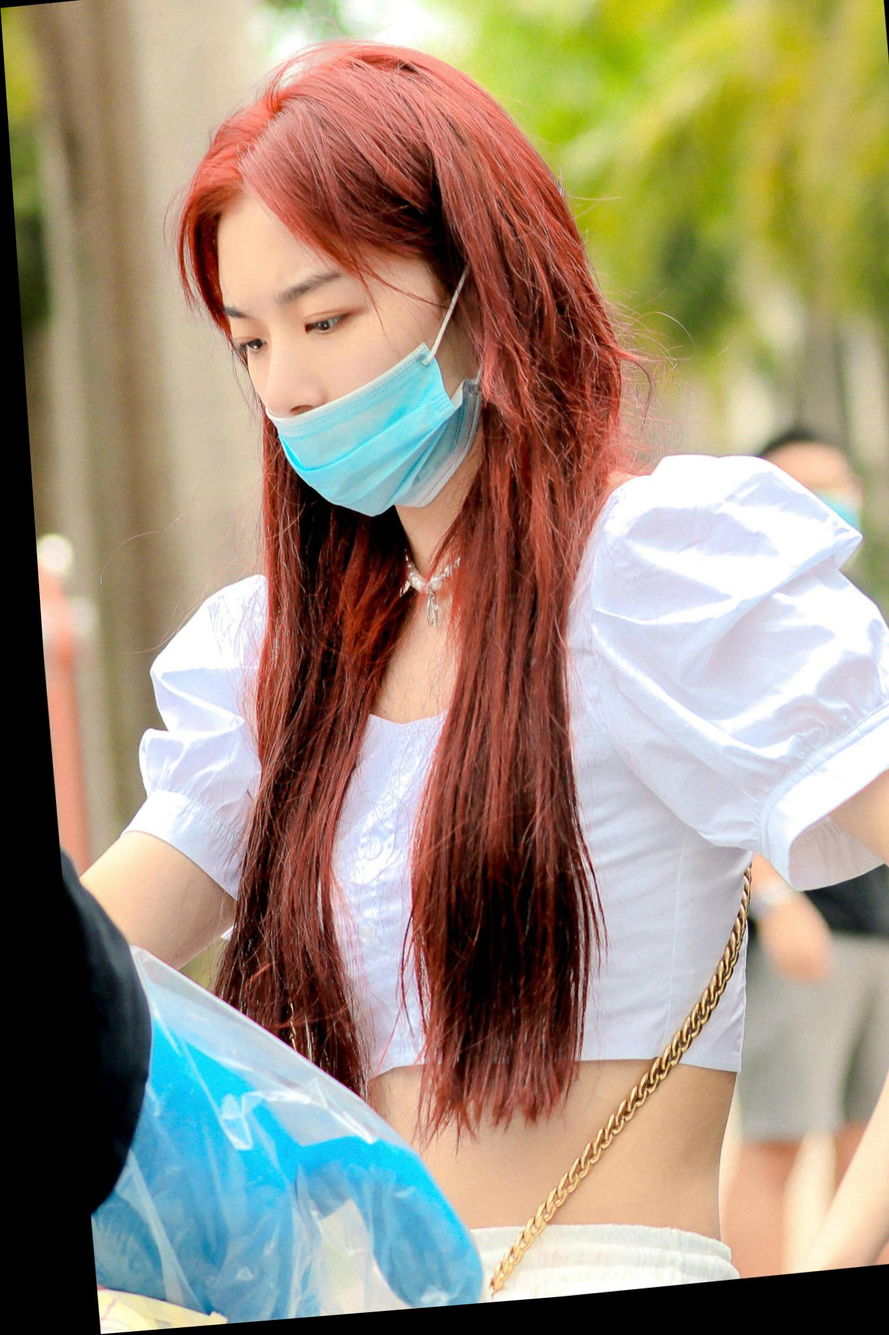WRONG: (211, 229, 450, 536)
